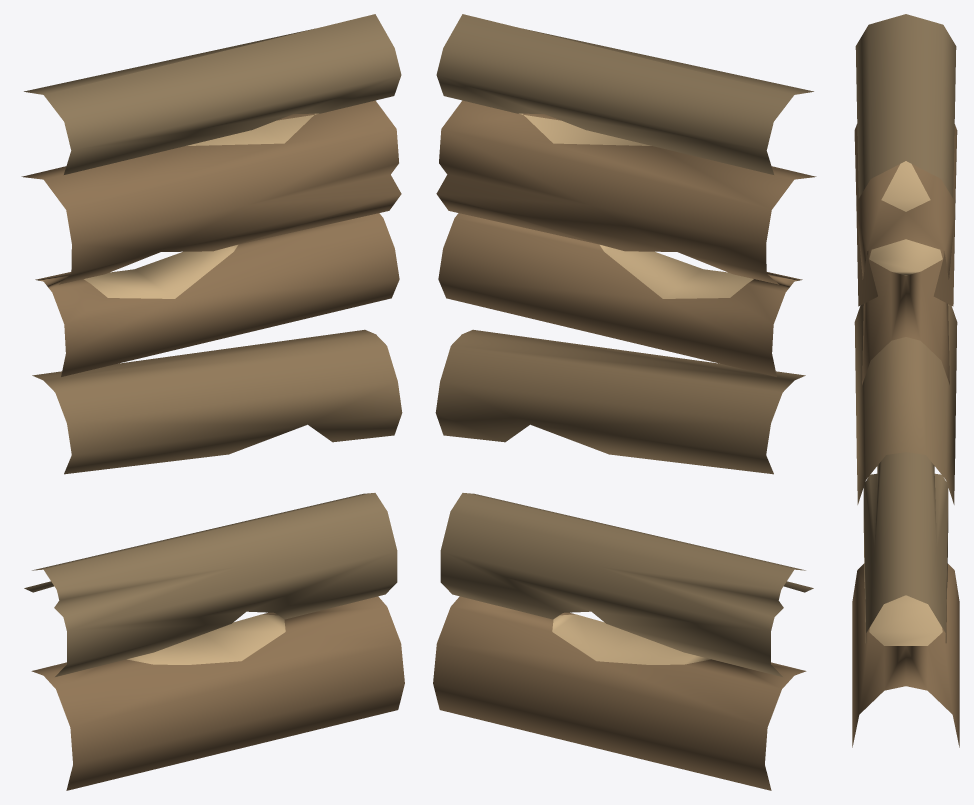
Rendered from rpgpp_av_wall_03_1.5x3_b.gltf.
3 renders of one model, left to right at view 1: azimuth 30°, elevation 25°; view 2: azimuth 150°, elevation 25°; view 3: azimuth 270°, elevation 25°, orthographic. The views are drawn at different scales.
Visible parts, largest first — view 1: rpgpp_av_wall_03_1.5x3_b; view 2: rpgpp_av_wall_03_1.5x3_b; view 3: rpgpp_av_wall_03_1.5x3_b.
Boxes of the visible parts, bbox=[...] form: rpgpp_av_wall_03_1.5x3_b: bbox=[21, 14, 404, 790]; rpgpp_av_wall_03_1.5x3_b: bbox=[433, 14, 816, 790]; rpgpp_av_wall_03_1.5x3_b: bbox=[852, 14, 959, 747].
Bounding box in the file's own units: 0.015 × 0.03 × 0.00463.
1 material, 1 textured.
